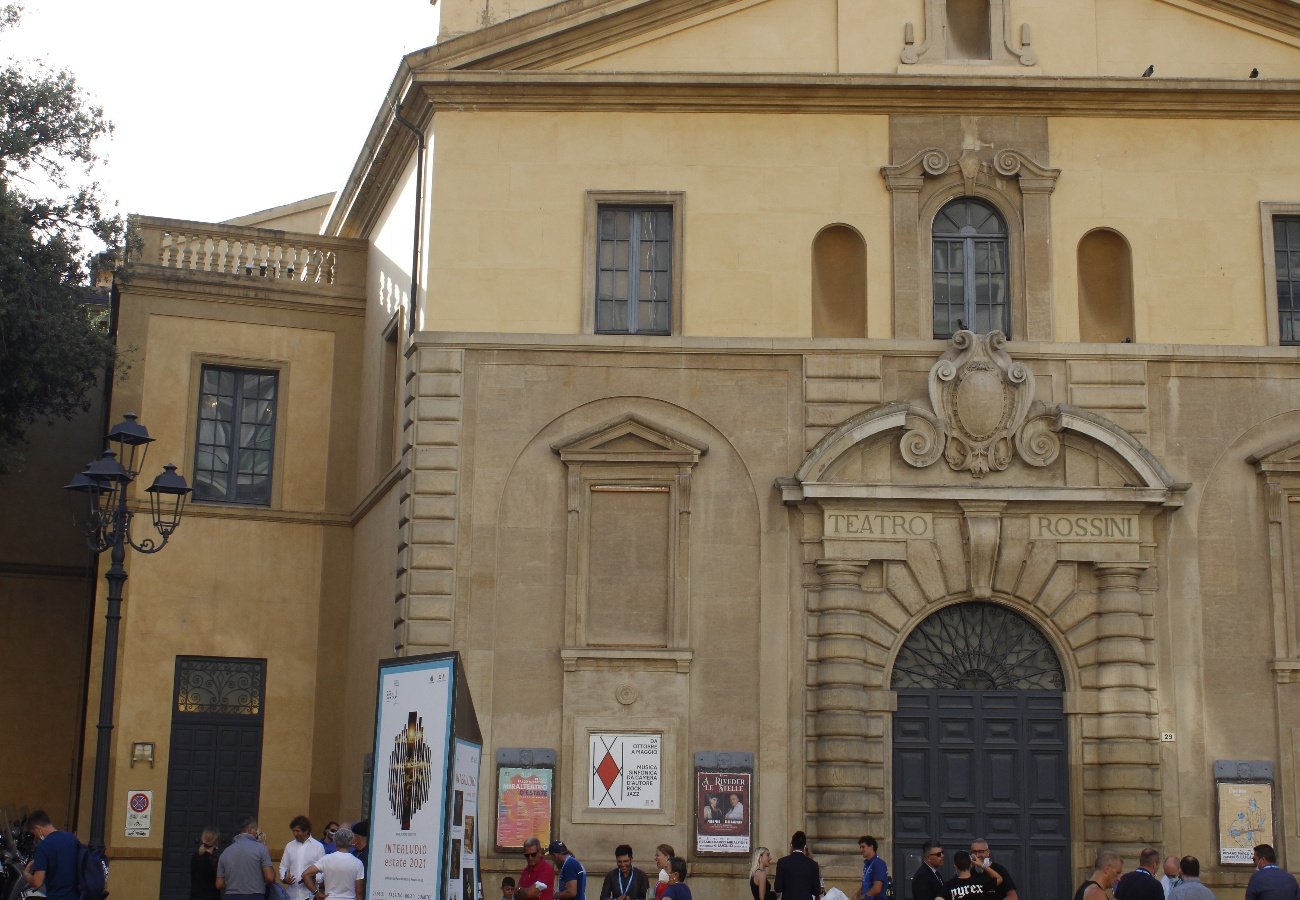Teatro Rossini: (405, 1, 1300, 884)
